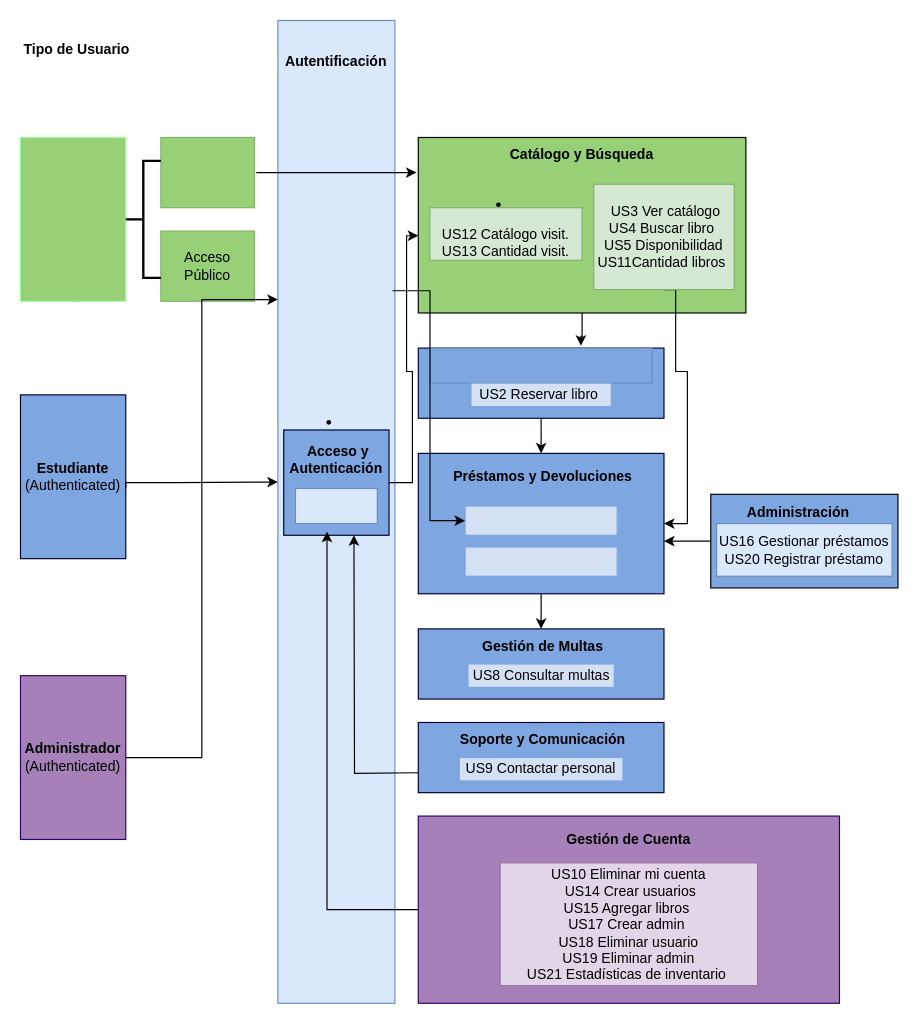
The diagram is 918 pixels wide and 1024 high, and some of its shapes have lost their labels. The centre of each missing label's shape, as x and y in pixels:
"Gestión de Reservas" belongs at [540,365].
"Módulo del Visitante" belongs at [207,172].
"US1 Iniciar sesión" belongs at [335,505].
"US6 Fecha devolución" belongs at [540,520].
"US7 Préstamos activos" belongs at [540,561].
"Visitante (Public)" belongs at [72,218].
